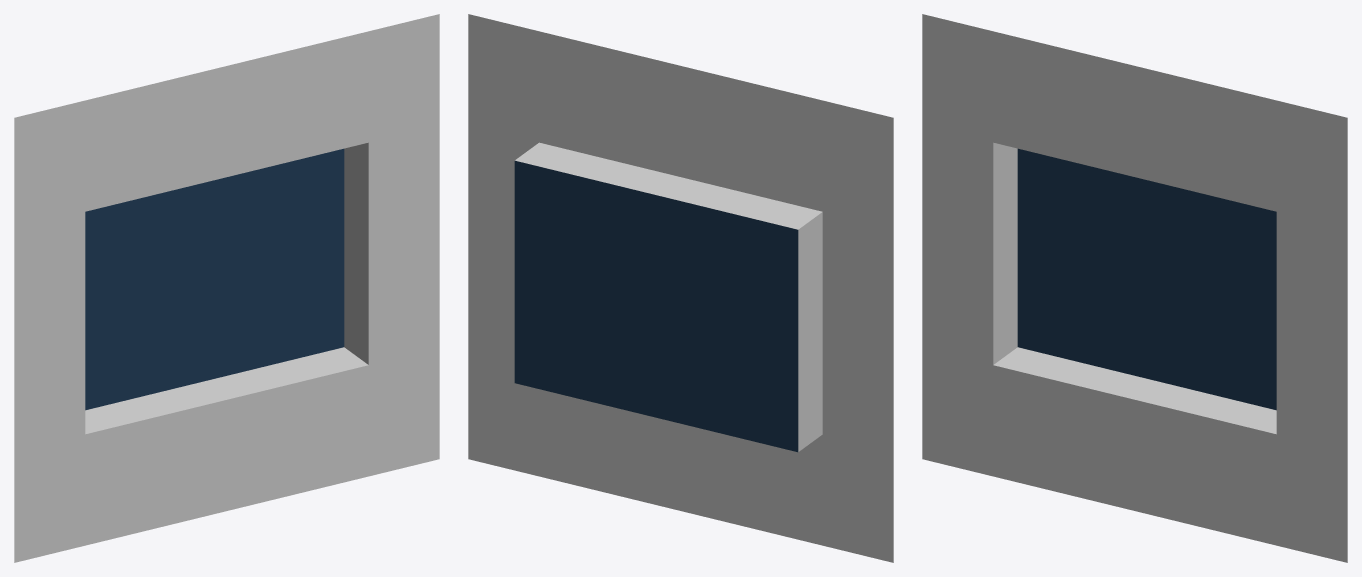
File: mid-w1.fbx
3 renders of one model, left to right at view 1: azimuth 30°, elevation 25°; view 2: azimuth 150°, elevation 25°; view 3: azimuth 330°, elevation 25°, orthographic.
Visible parts, largest first — view 1: M_Wall; view 2: M_Wall; view 3: M_Wall.
Part boxes in pixels (x1,y1,x2,y2): M_Wall: [14, 14, 439, 562]; M_Wall: [468, 14, 893, 562]; M_Wall: [922, 14, 1347, 562].
Bounding box in the file's own units: 1 × 1 × 0.1.
